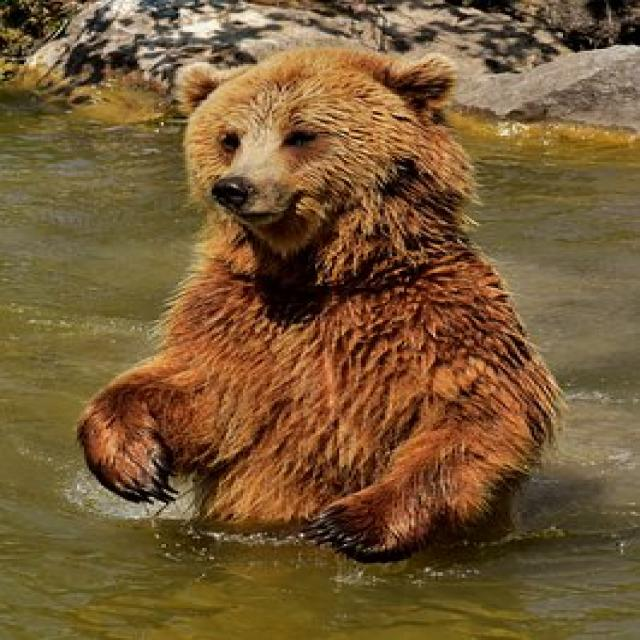Bear: (75, 47, 568, 567)
